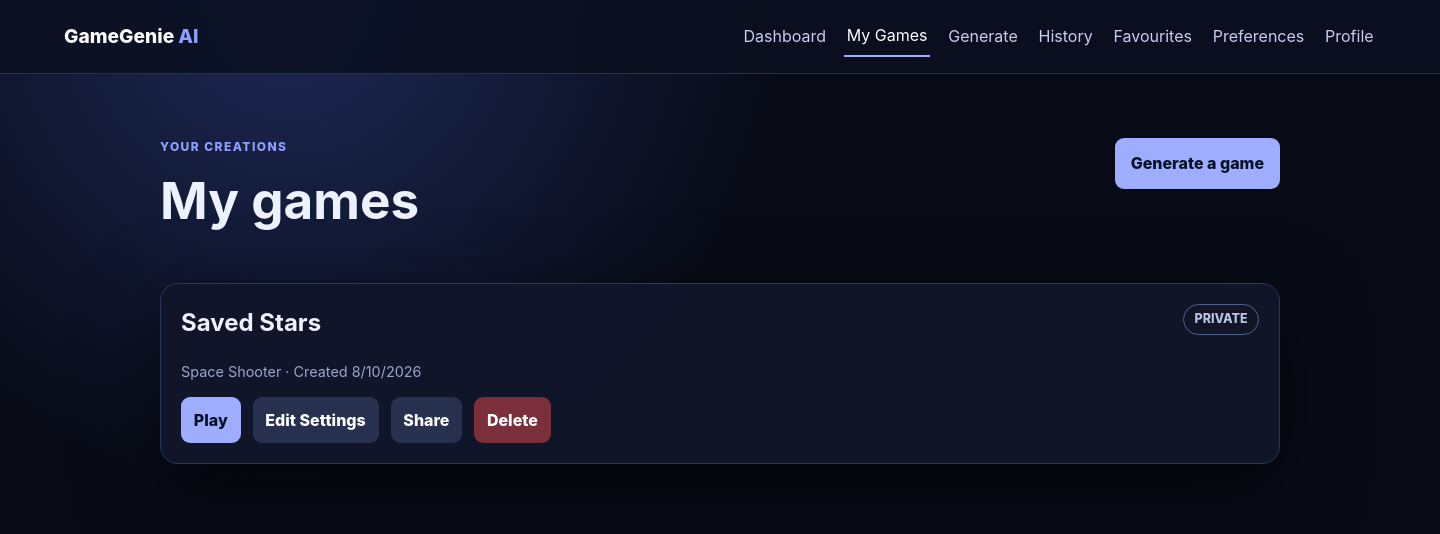
generated-game persistence UI › confirms and deletes a saved game
Click the button with aria-label "Delete Saved Stars".
click(512, 420)  # box [474,397,551,443]
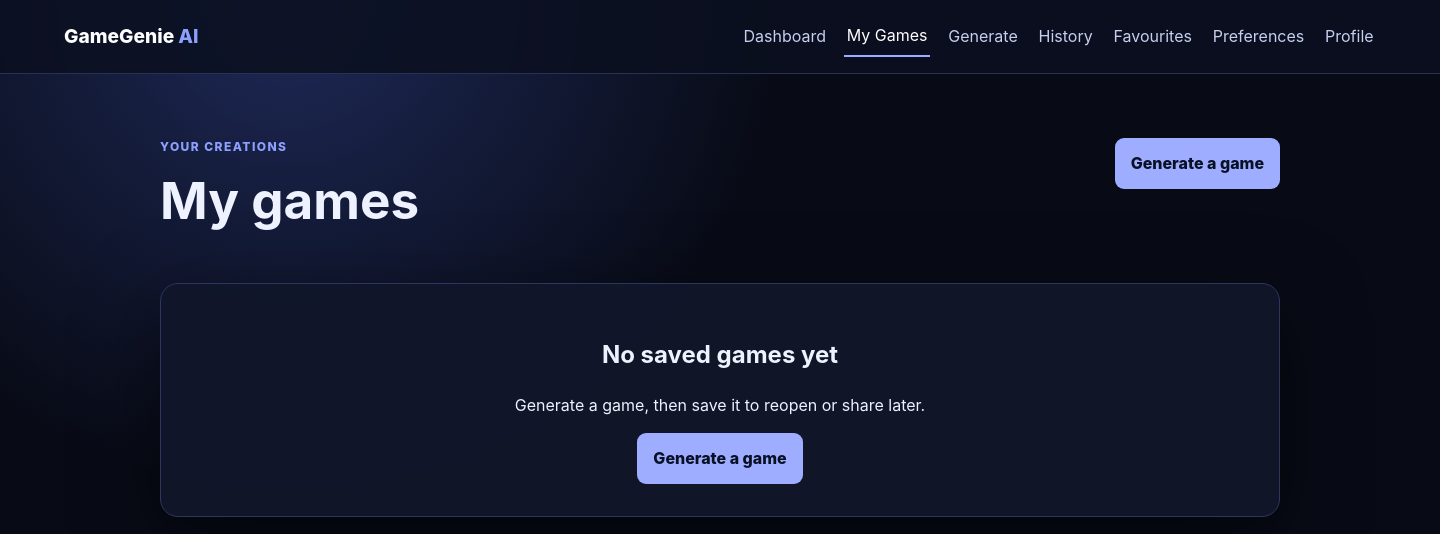
Result: the heading "Saved Stars" is gone
